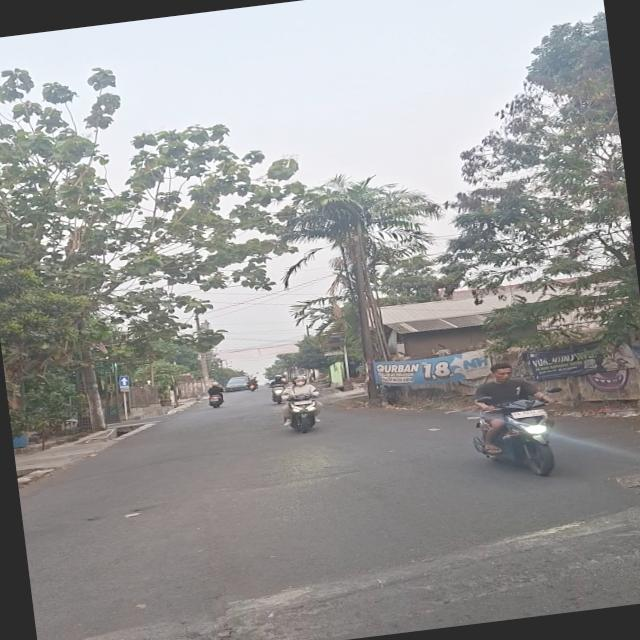WithHelmet: (276, 373, 326, 427), (265, 373, 293, 403), (205, 380, 227, 404), (246, 375, 259, 389)
WithoutHelmet: (466, 357, 562, 486)
